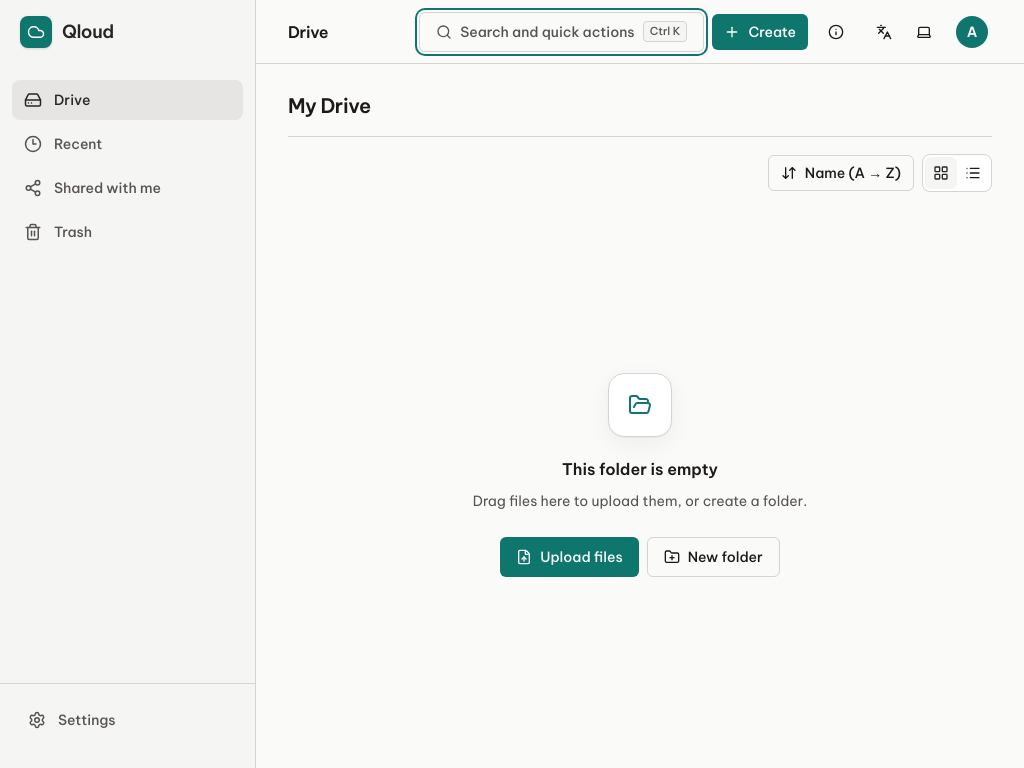
Scenario: offers quick commands without requesting search and restores keyboard focus
Expected: the heading "My Drive" is shown, [288, 92, 371, 120]
Press k
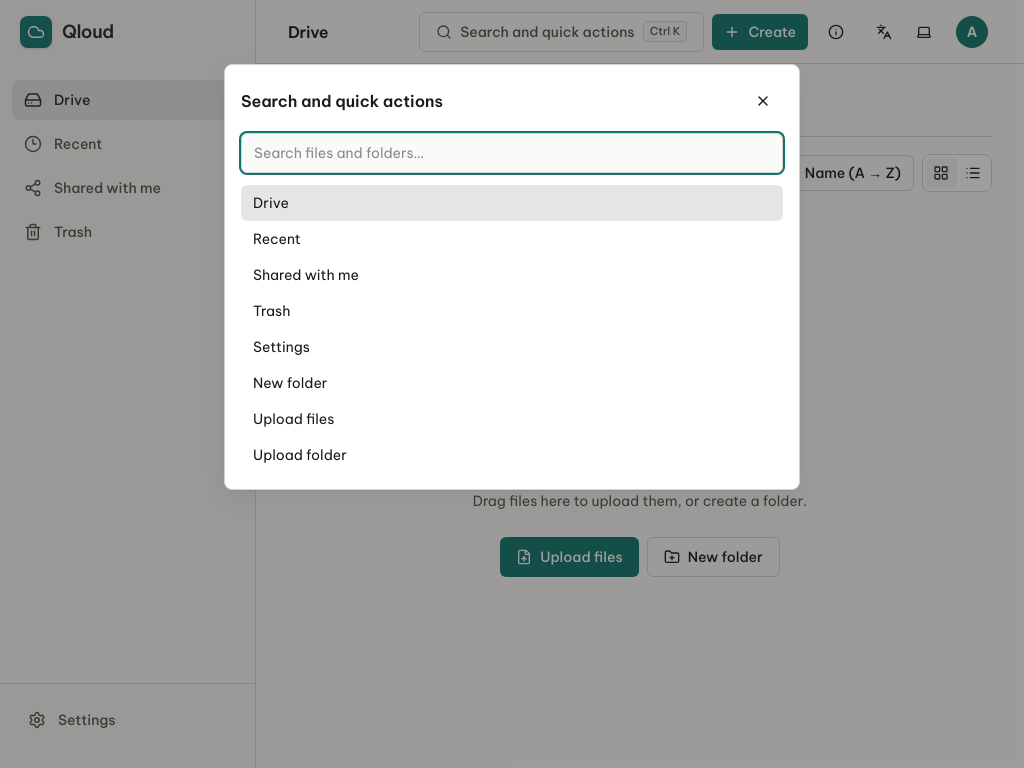
Press Escape
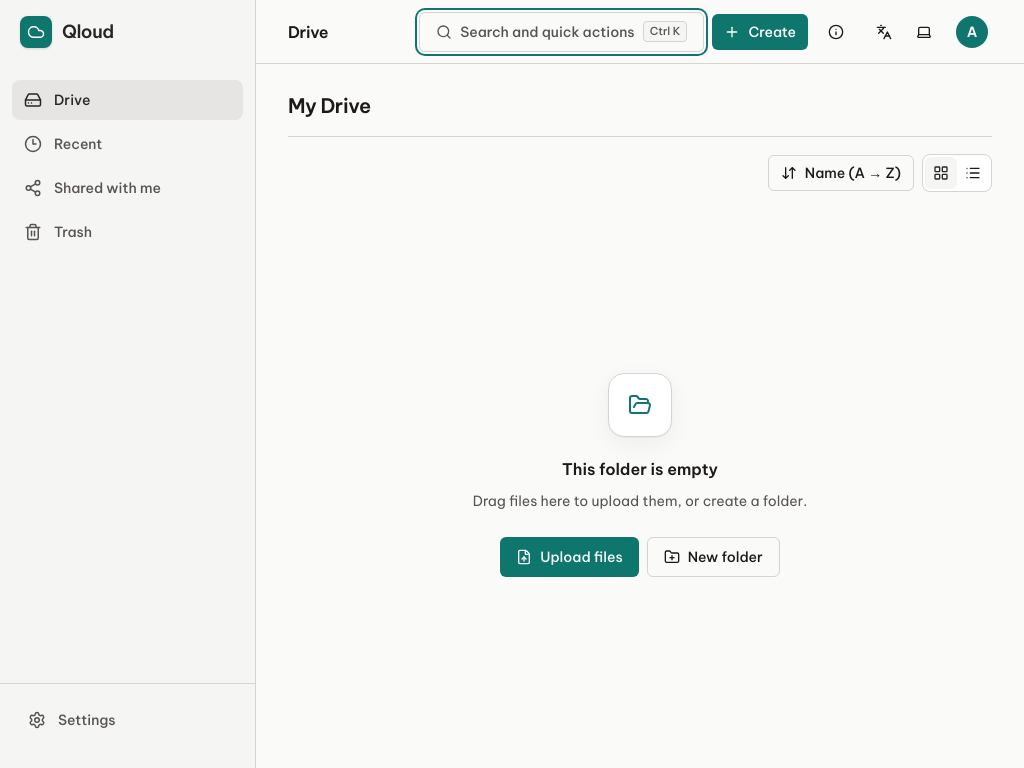
Press k
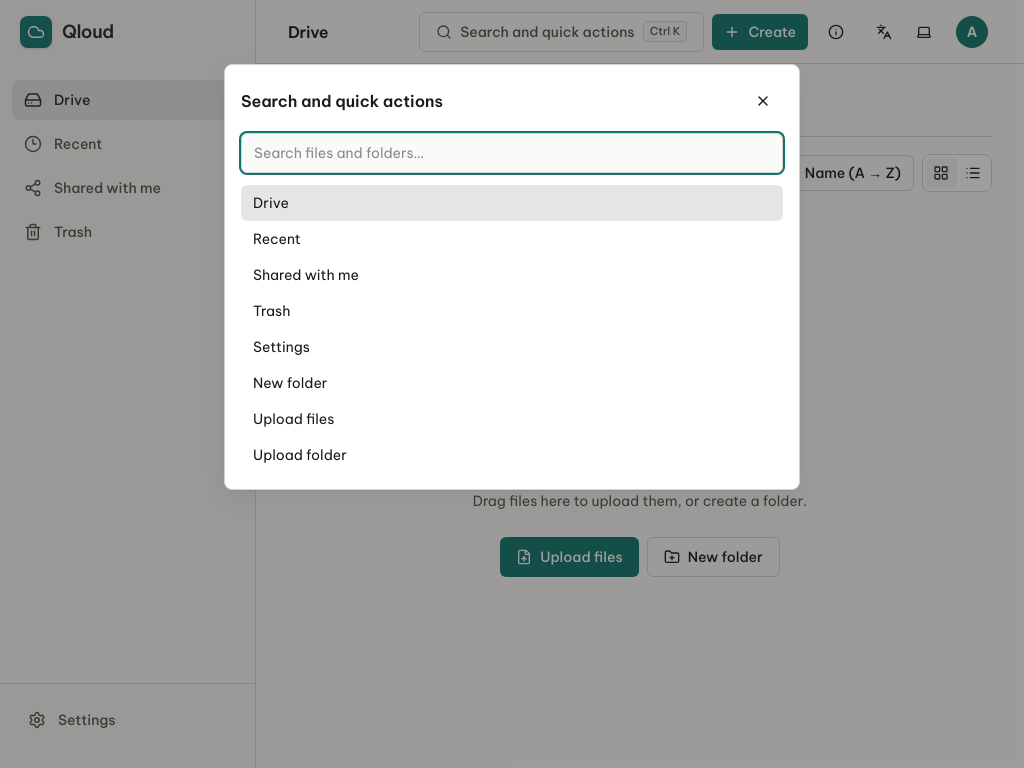
Click the option "Recent". click: point(277, 239)
box: [241, 221, 783, 257]
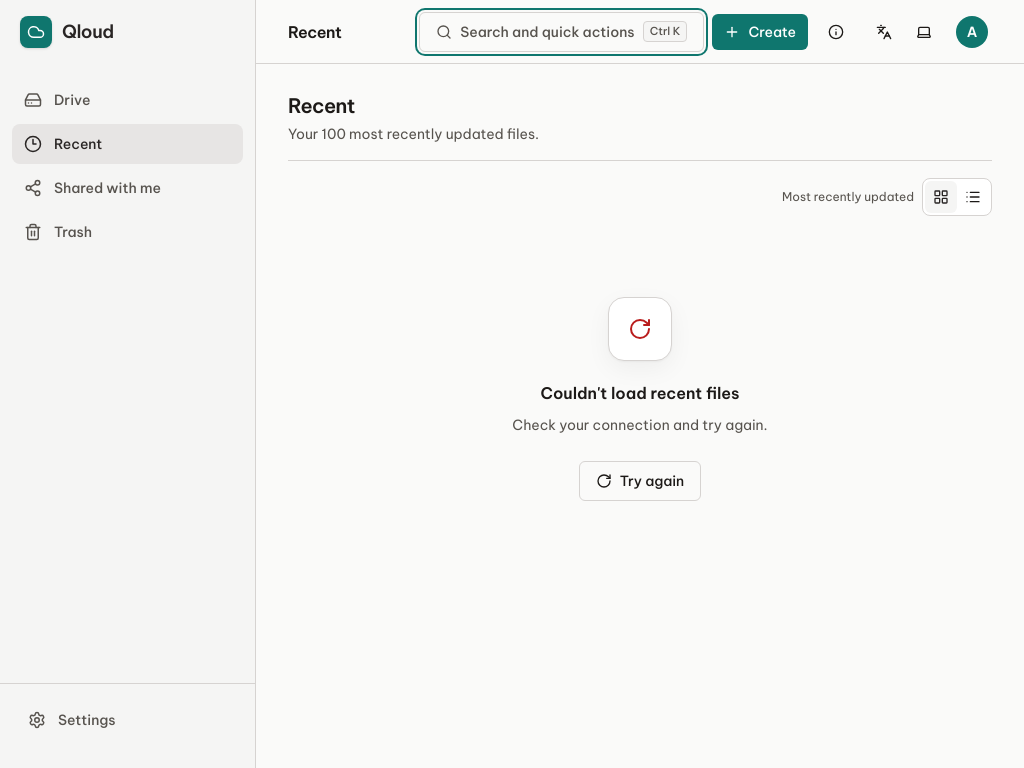
Expected: the heading "Recent" is shown, [288, 93, 355, 118]
